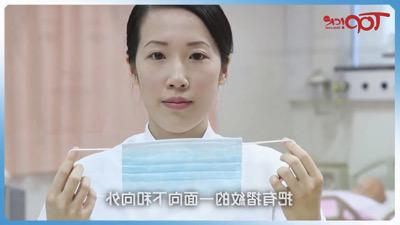without_mask: (135, 35, 222, 133)
